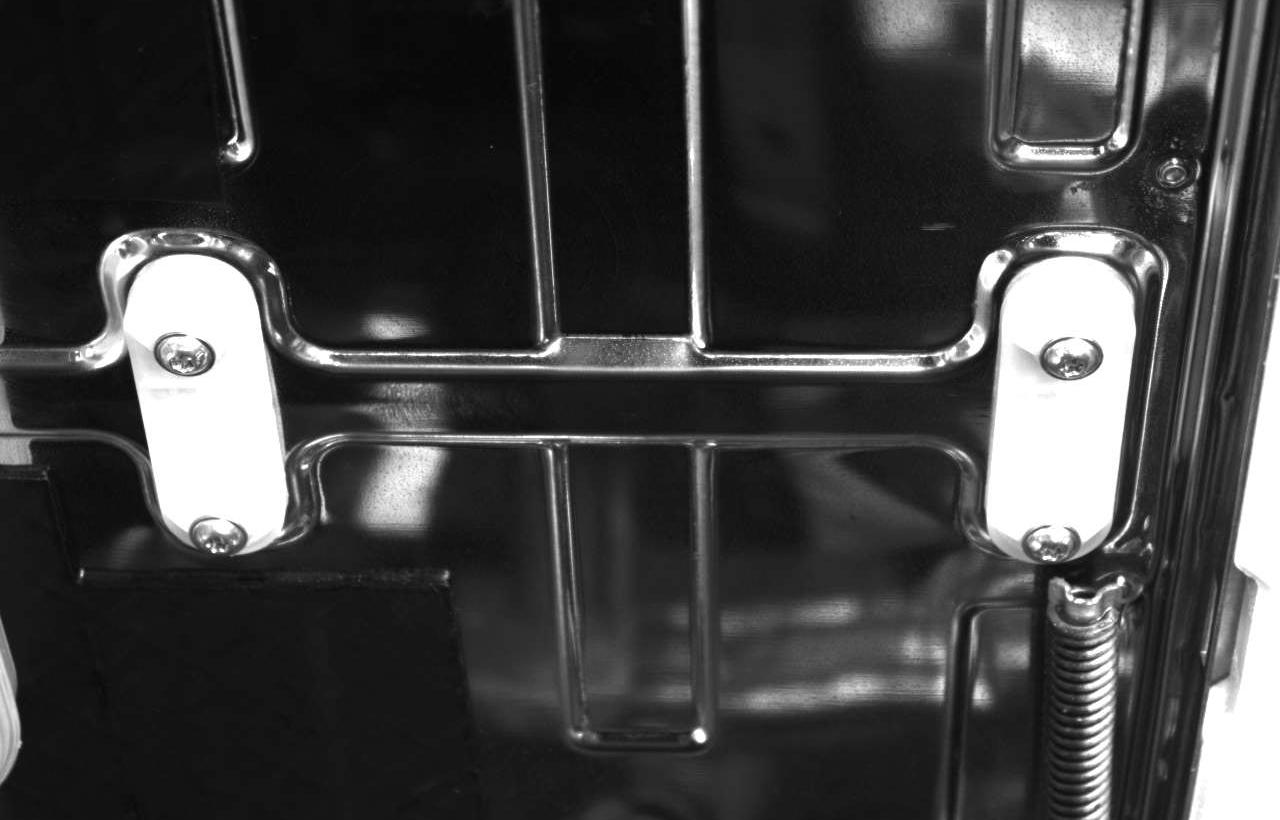vida-ok: (142, 312, 229, 390), (1022, 319, 1110, 392), (180, 494, 257, 558), (1013, 516, 1089, 575)
